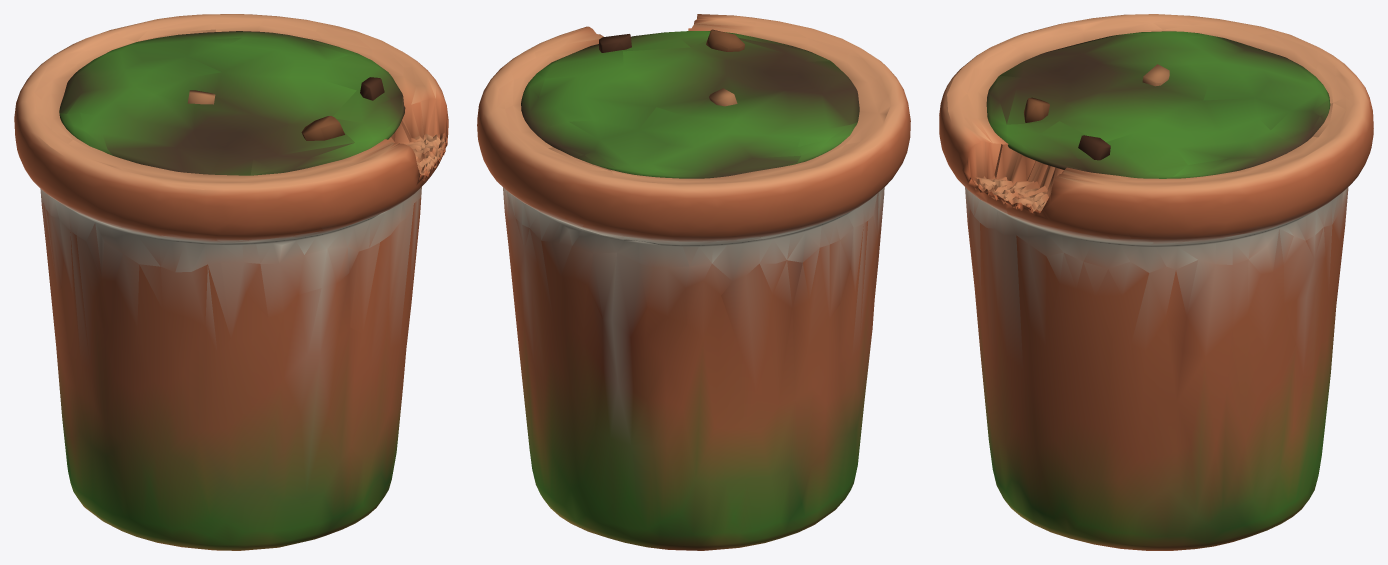
Rendered from canopy_pot_b_lod1.glb.
The picture shows the model from 3 angles, left to right: view 1: azimuth 30°, elevation 25°; view 2: azimuth 150°, elevation 25°; view 3: azimuth 270°, elevation 25°; orthographic projection.
Visible parts, largest first — view 1: canopy_pot_b.001; view 2: canopy_pot_b.001; view 3: canopy_pot_b.001.
Boxes of the visible parts, x1=… form: canopy_pot_b.001: x1=14, y1=14, x2=448, y2=550; canopy_pot_b.001: x1=477, y1=14, x2=910, y2=550; canopy_pot_b.001: x1=939, y1=14, x2=1373, y2=550.
Size of the model in its own units: 10.08 by 10.48 by 10.09.
